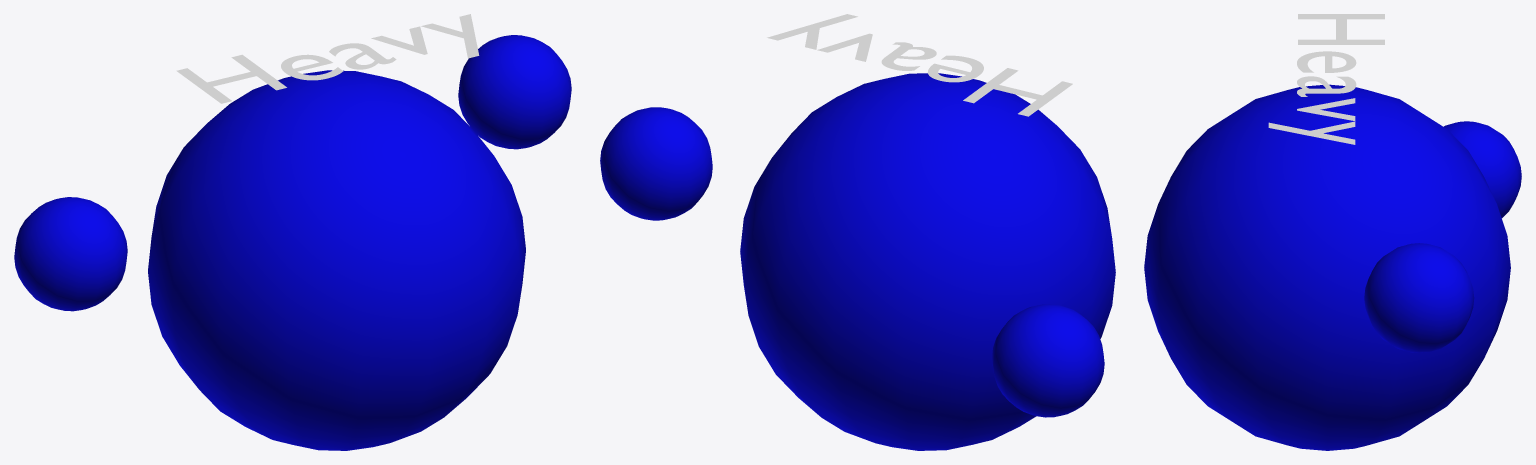
Rendered from actor_def_support.fbx.
3 renders of one model, left to right at view 1: azimuth 30°, elevation 25°; view 2: azimuth 150°, elevation 25°; view 3: azimuth 270°, elevation 25°, orthographic. The views are drawn at different scales.
Visible parts, largest first — view 1: Sphere, Sphere.002, Sphere.001, Font; view 2: Sphere, Sphere.001, Sphere.002, Font; view 3: Sphere, Sphere.001, Font, Sphere.002.
Part boxes in pixels (box(x1,y1,x2,y2)): Sphere: box(148, 70, 525, 450); Sphere.002: box(14, 197, 127, 311); Sphere.001: box(458, 35, 571, 149); Font: box(176, 14, 479, 103); Sphere: box(740, 73, 1115, 450); Sphere.001: box(600, 107, 712, 220); Sphere.002: box(992, 304, 1104, 417); Font: box(767, 14, 1072, 116); Sphere: box(1144, 84, 1510, 450); Sphere.001: box(1364, 243, 1474, 352); Font: box(1268, 14, 1384, 144); Sphere.002: box(1444, 121, 1521, 217).
Bounding box in the file's own units: 3.14 × 2.16 × 2.06.
